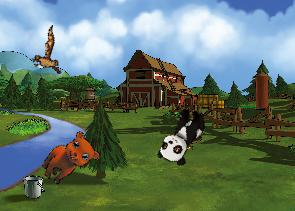bear: (36, 125, 104, 195)
eagle: (21, 25, 74, 83)
panda: (154, 102, 210, 169)
